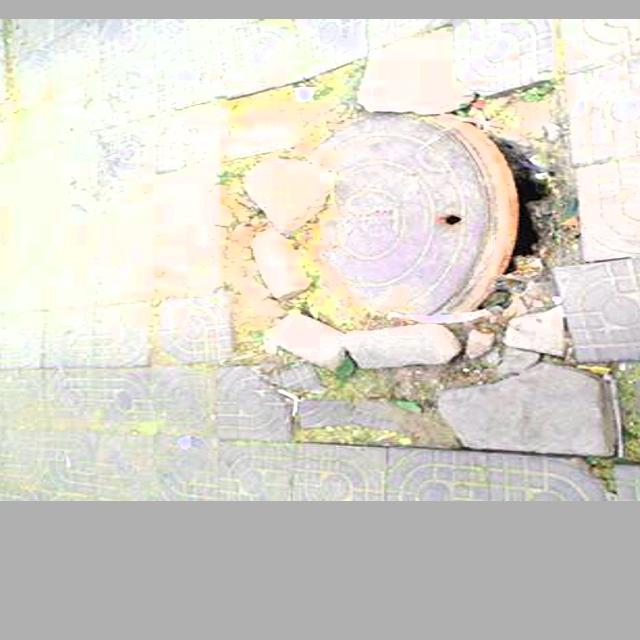circle: (213, 80, 621, 461)
